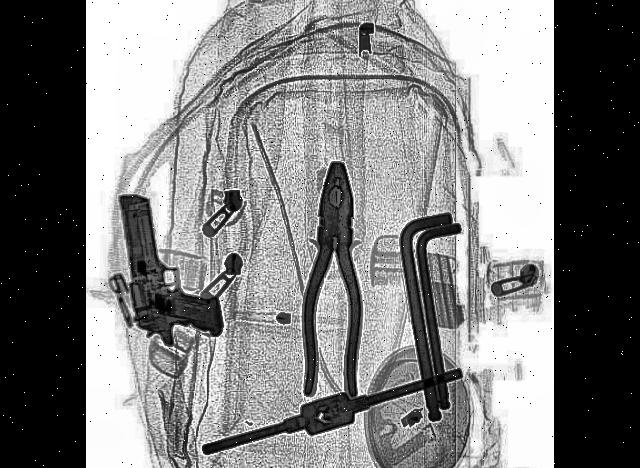Gun: (114, 170, 223, 363)
Pliers: (297, 159, 368, 402)
